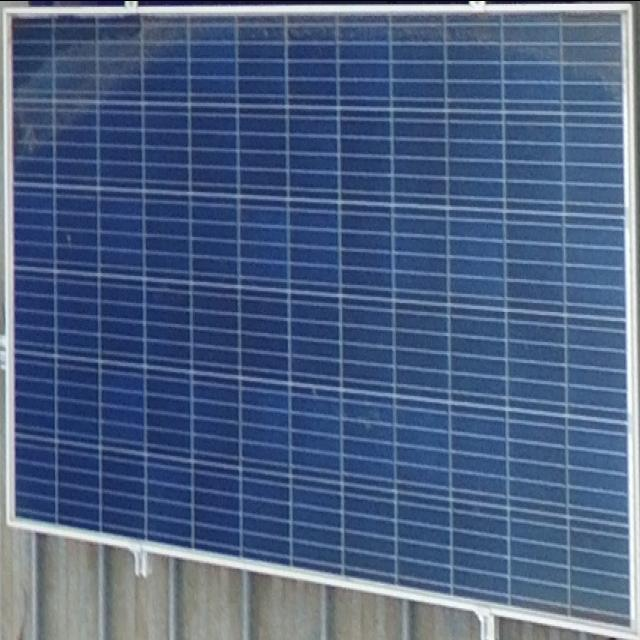Dust: (14, 7, 174, 171), (422, 10, 619, 70)
bird-droppings: (63, 221, 78, 253)
